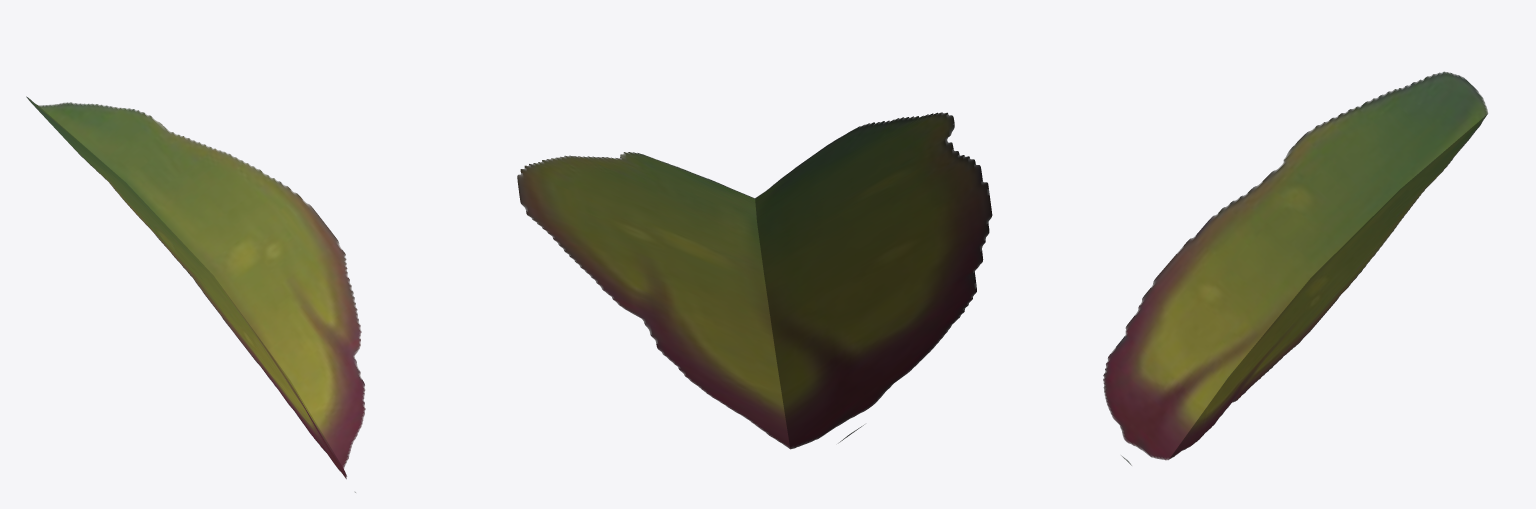
The model's file is lisc single.fbx.
3 views of the same model, side by side, from view 1: azimuth 30°, elevation 25°; view 2: azimuth 150°, elevation 25°; view 3: azimuth 270°, elevation 25° (orthographic). The views are drawn at different scales.
Visible parts, largest first — view 1: Plane.002; view 2: Plane.002; view 3: Plane.002.
Boxes of the visible parts, left/top/right/bottom form: Plane.002: left=26, top=96, right=365, bottom=492; Plane.002: left=517, top=112, right=992, bottom=449; Plane.002: left=1103, top=71, right=1488, bottom=465.
Size of the model in its own units: 9.88 by 10.22 by 11.95.
